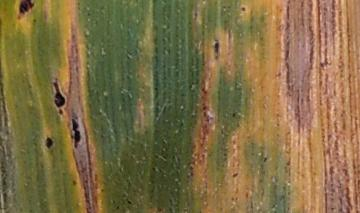tarspot: (53, 79, 66, 107), (71, 118, 81, 147), (18, 1, 35, 17), (214, 40, 220, 60), (46, 136, 54, 148), (56, 107, 65, 115), (125, 198, 133, 206), (230, 172, 239, 178), (71, 179, 78, 186), (240, 4, 246, 12), (230, 112, 237, 118), (263, 157, 268, 162)
